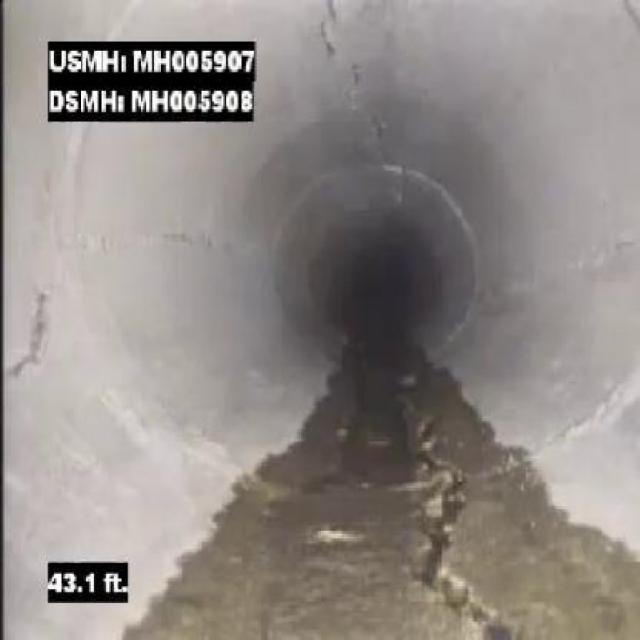Buckling: (414, 486, 506, 637), (406, 406, 465, 491)
Crack: (311, 1, 374, 110), (8, 269, 64, 388), (125, 214, 242, 257), (574, 228, 637, 275)
